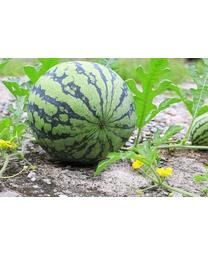watermelon: (27, 64, 135, 167)
